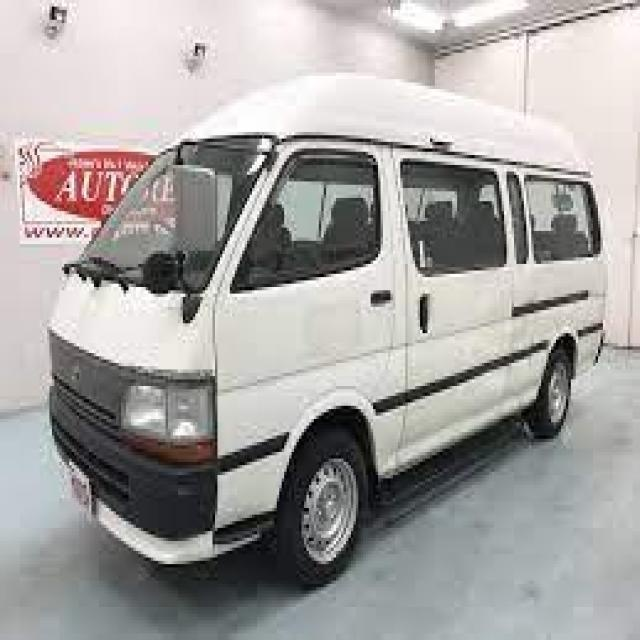Van: (49, 69, 613, 571)
